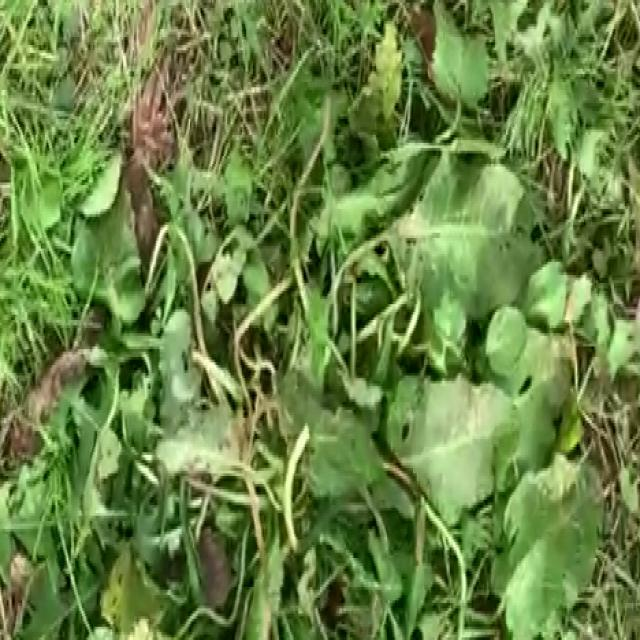organic waste: (60, 47, 582, 640)
